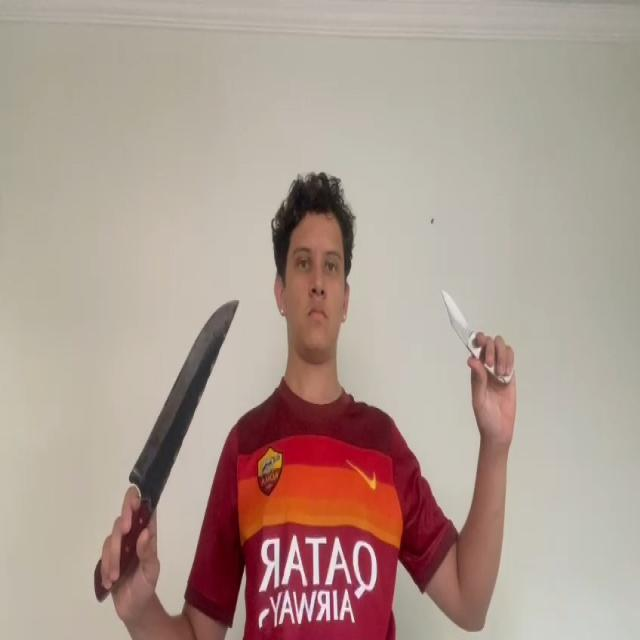knife: (130, 296, 241, 484), (440, 283, 472, 344)
